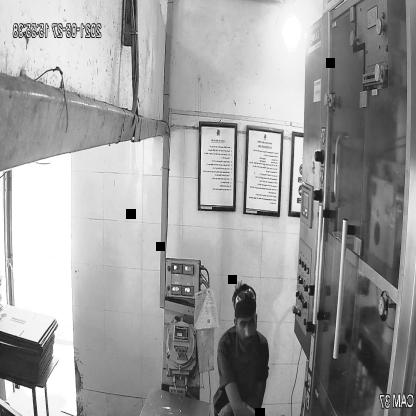no_goggles: (231, 314, 260, 332)
